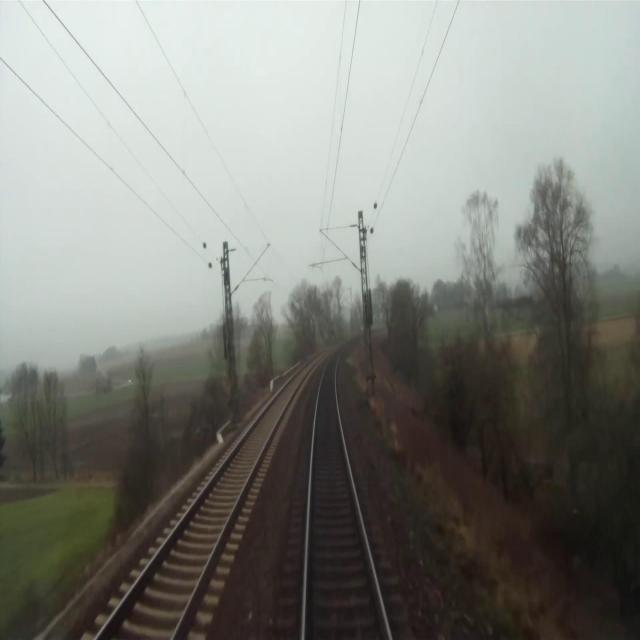rail-track: (98, 360, 315, 639), (306, 351, 388, 639)
